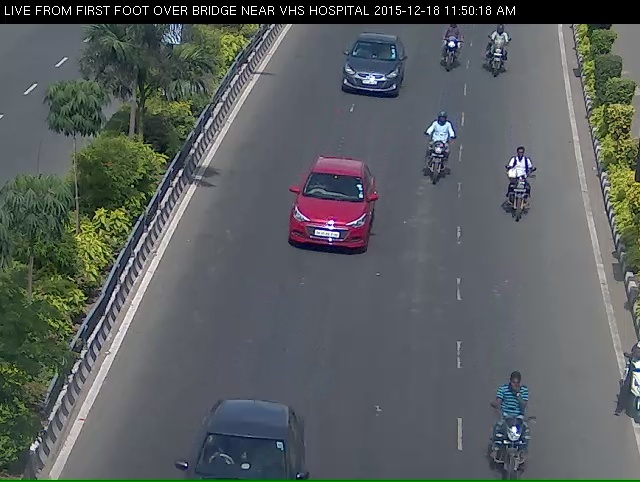Car: (288, 167, 371, 267), (340, 31, 408, 110)
Person: (493, 395, 536, 481), (420, 125, 460, 193), (505, 153, 536, 228), (486, 25, 511, 84), (441, 25, 462, 81)
